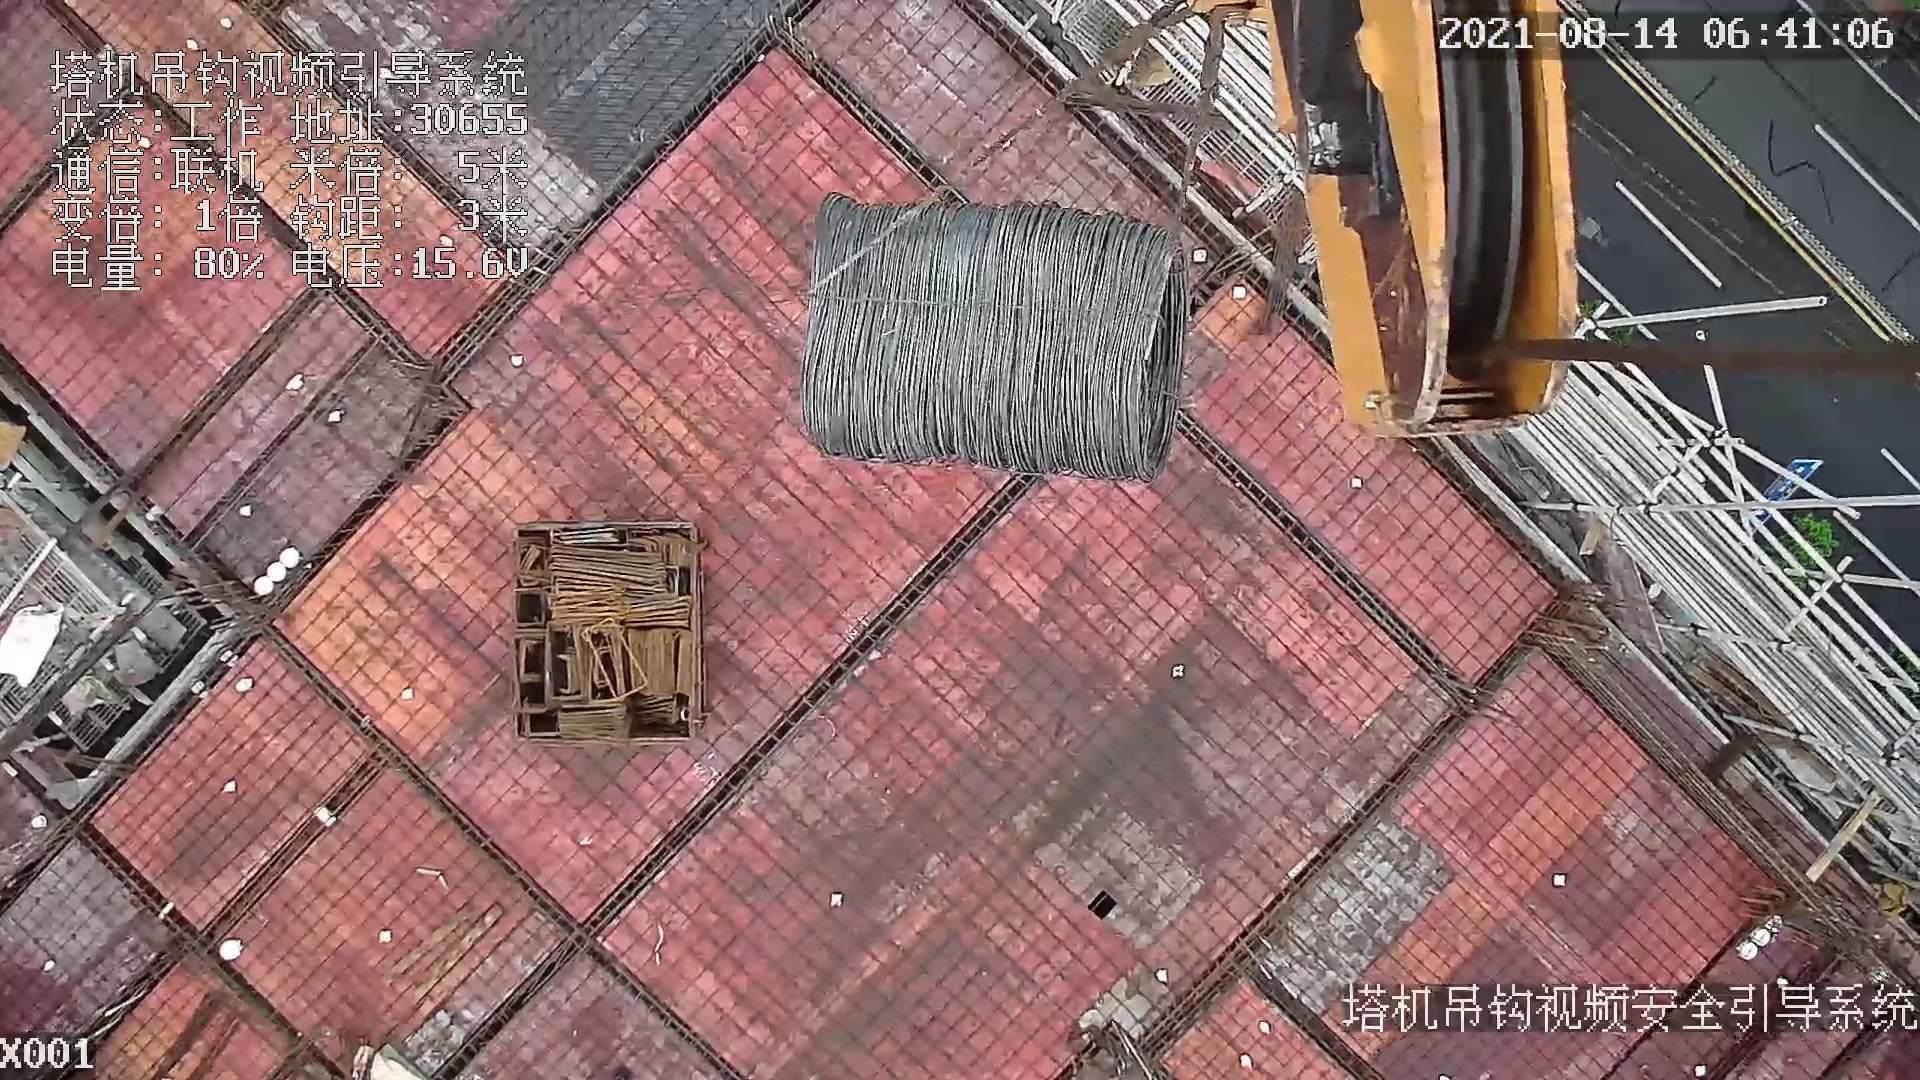hook: (1147, 1, 1578, 431)
